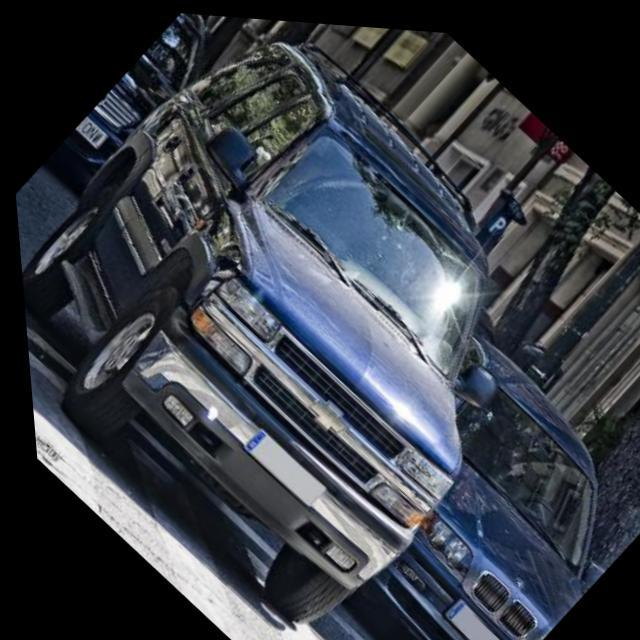license_plate: (234, 424, 320, 508), (429, 591, 508, 640), (72, 115, 107, 148)
